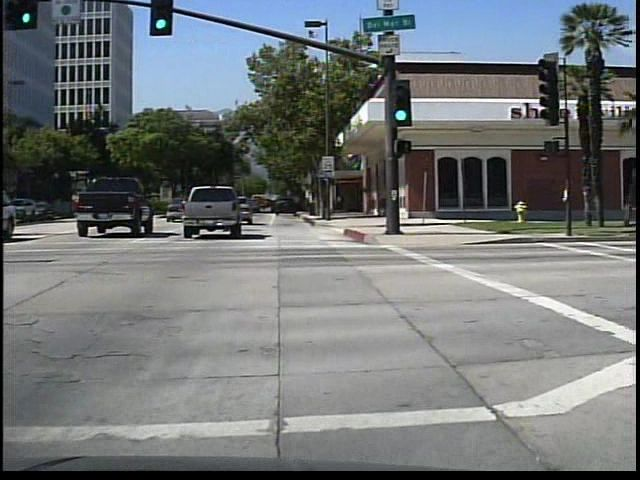car: (73, 177, 157, 238), (182, 183, 246, 236)
strada: (33, 234, 640, 469)
